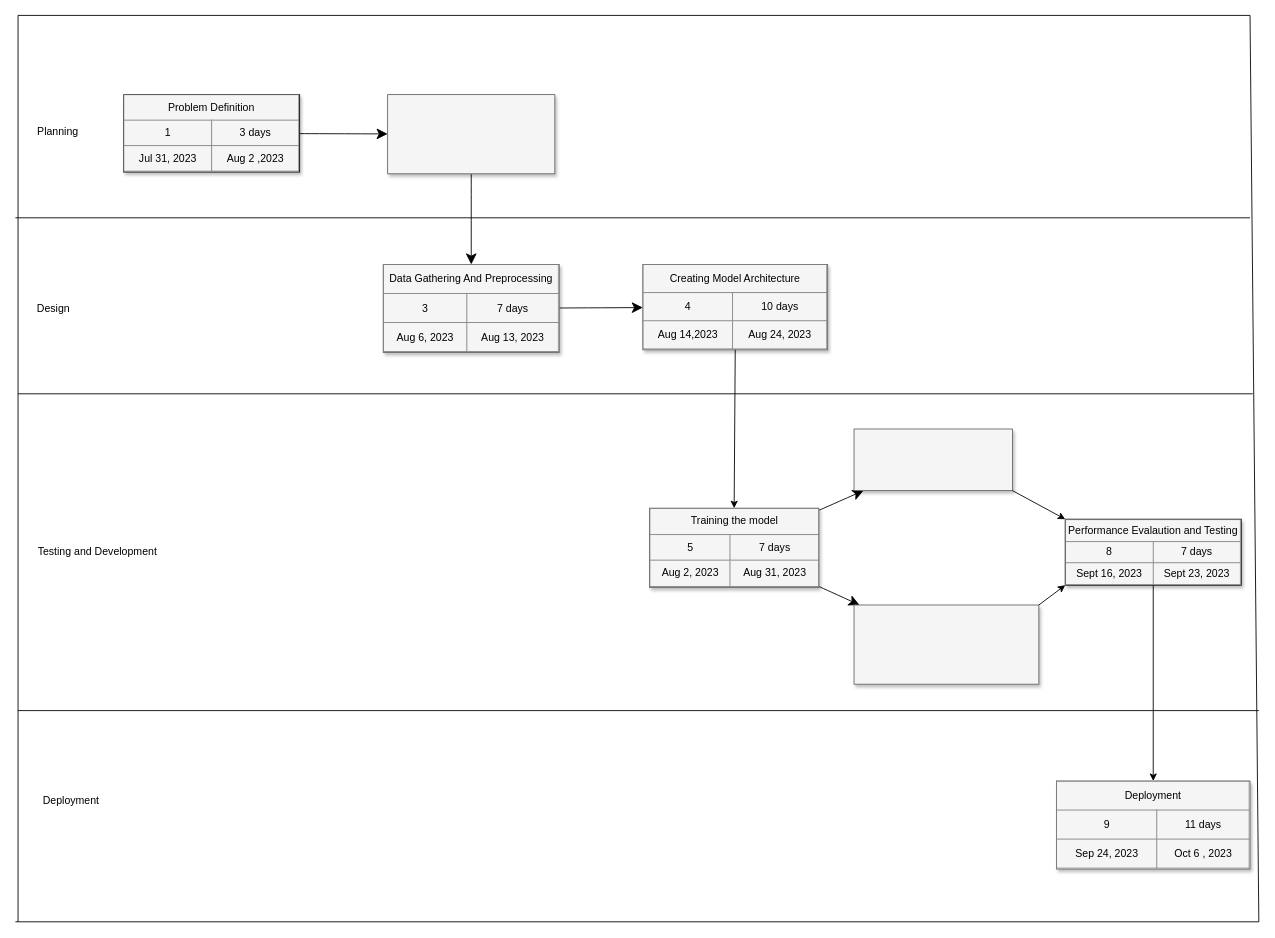
This 1275x938 diagram has some shape labels left out. The centre of each missing label's shape, as x and y in pixels:
"Data Visualization 6 3 days Sept 1, 2023 Sept 4, 2023" goes at point (934, 461).
"Fine-Tuning and Iteration 7 10 days Sept 5, 2023 Sept 15, 2023" goes at point (947, 645).
"Requirement Gathering 2 2 days Aug 3 , 2023 Aug 5 ,2023" goes at point (471, 135).
